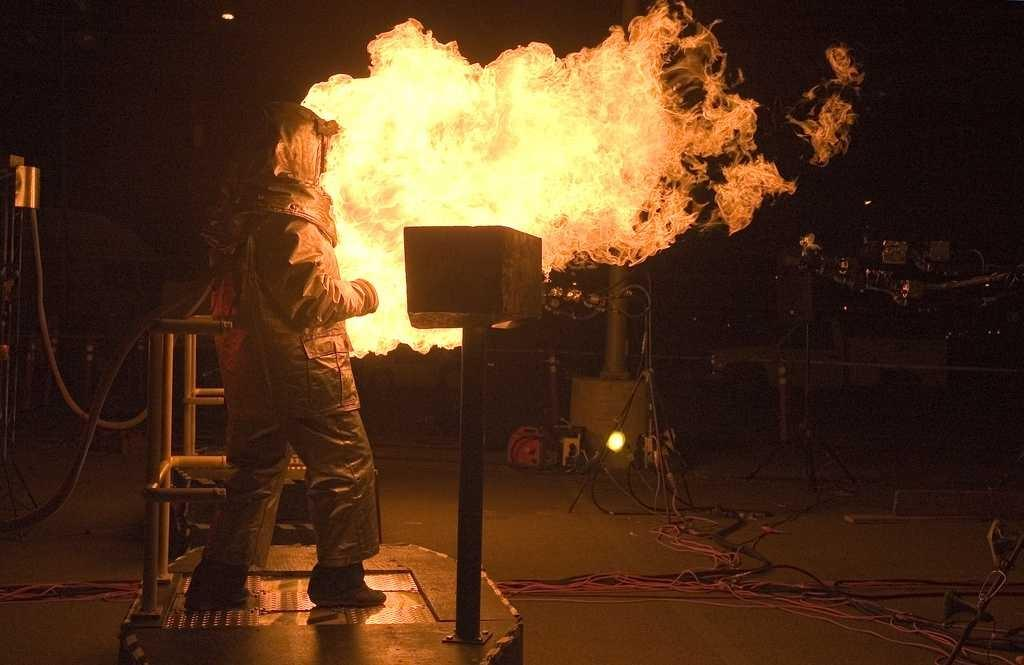fire: (320, 15, 776, 206), (316, 223, 414, 361)
